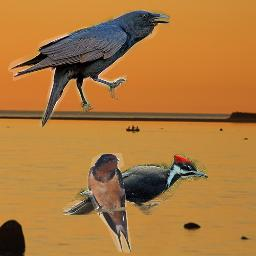Crow: (8, 10, 170, 128)
Swallow: (87, 153, 131, 253)
Woodpecker: (63, 154, 208, 215)
